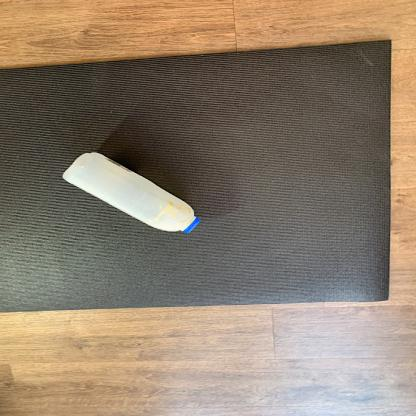trash: (59, 150, 201, 236)
